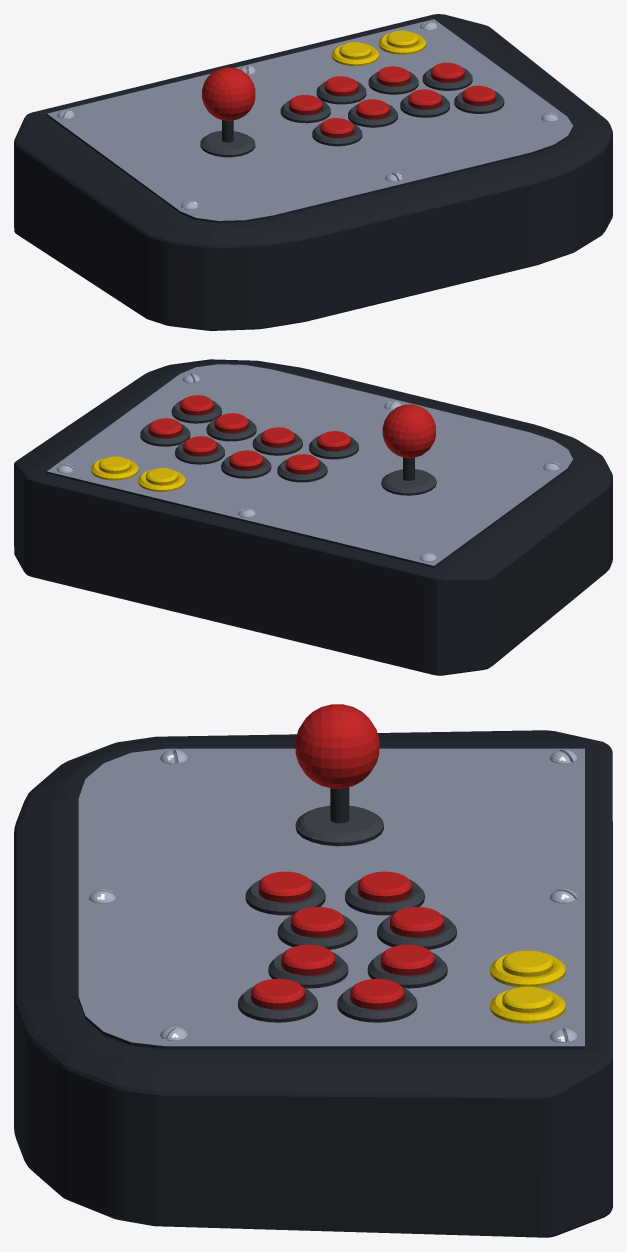
Rendered from hw_stick.glb.
3 renders of one model, top to bottom at view 1: azimuth 30°, elevation 25°; view 2: azimuth 150°, elevation 25°; view 3: azimuth 270°, elevation 25°, orthographic. The views are drawn at different scales.
Visible parts, largest first — view 1: Cube_Material_0; view 2: Cube_Material_0; view 3: Cube_Material_0.
Boxes of the visible parts, x1=… form: Cube_Material_0: x1=14, y1=14, x2=612, y2=330; Cube_Material_0: x1=14, y1=359, x2=612, y2=675; Cube_Material_0: x1=14, y1=704, x2=612, y2=1237.
Size of the model in its own units: 997 by 356 by 689.
Materials: 1 (1 with a texture image).
